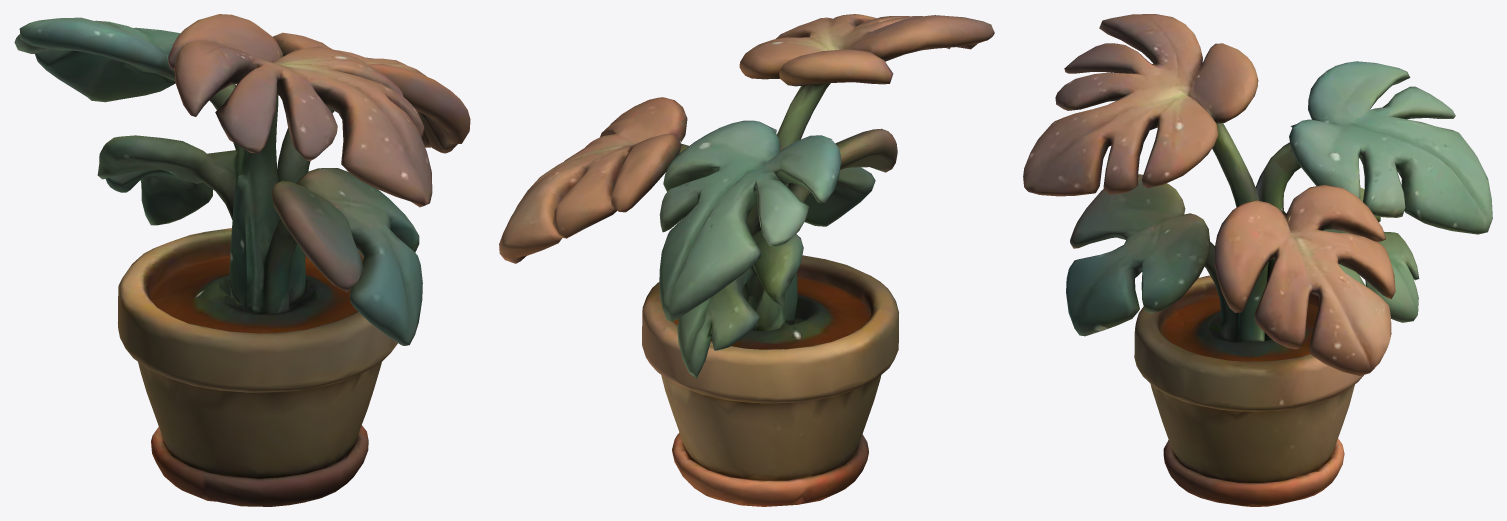
The model's file is deco_plant.glb.
The picture shows the model from 3 angles, left to right: view 1: azimuth 30°, elevation 25°; view 2: azimuth 150°, elevation 25°; view 3: azimuth 270°, elevation 25°; orthographic projection. The views are drawn at different scales.
Visible parts, largest first — view 1: tripo_node_8ad93b88-0acf-49b0-8079-c173b7e48af2; view 2: tripo_node_8ad93b88-0acf-49b0-8079-c173b7e48af2; view 3: tripo_node_8ad93b88-0acf-49b0-8079-c173b7e48af2.
Boxes of the visible parts, x1,y1,x2,y2 form: tripo_node_8ad93b88-0acf-49b0-8079-c173b7e48af2: [14, 14, 470, 506]; tripo_node_8ad93b88-0acf-49b0-8079-c173b7e48af2: [499, 14, 994, 506]; tripo_node_8ad93b88-0acf-49b0-8079-c173b7e48af2: [1023, 14, 1492, 506].
Bounding box in the file's own units: 0.8017 × 0.9576 × 0.9995.
Materials: 1 (1 with a texture image).
